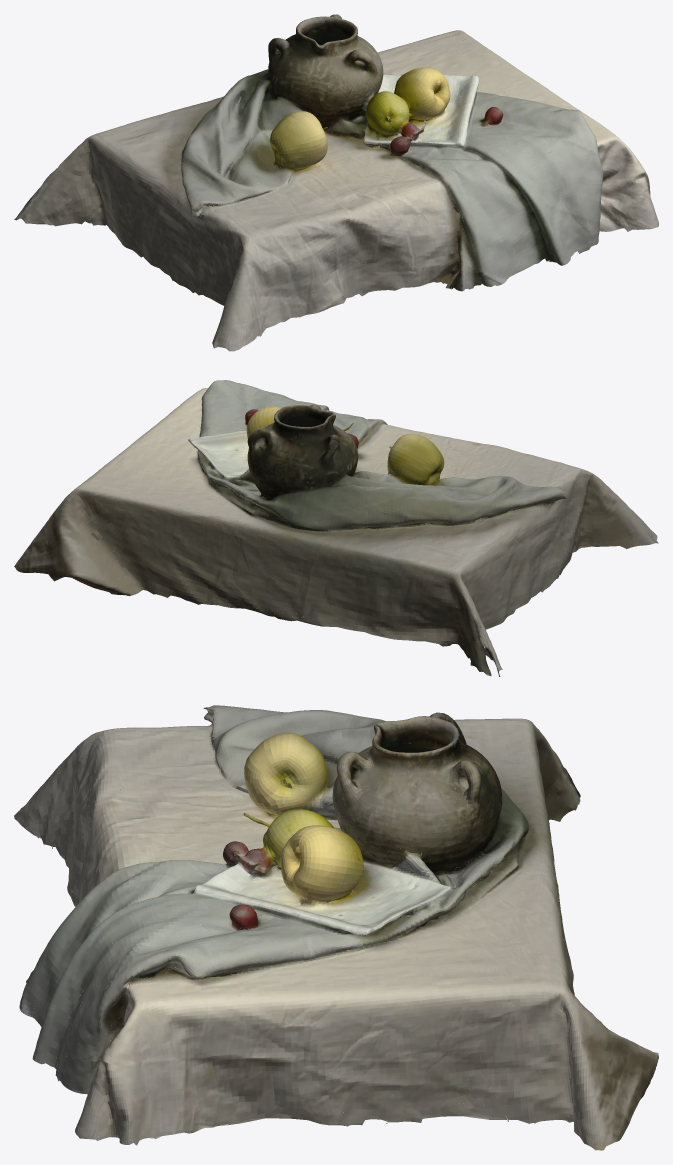
The model's file is 静物系列_苹果陶罐02_opt.glb.
The picture shows the model from 3 angles, top to bottom: view 1: azimuth 30°, elevation 25°; view 2: azimuth 150°, elevation 25°; view 3: azimuth 270°, elevation 25°; orthographic projection. The views are drawn at different scales.
Visible parts, largest first — view 1: surfaceShader1SG_2, surfaceShader1SG_4, surfaceShader1SG, surfaceShader1SG_6; view 2: surfaceShader1SG_4, surfaceShader1SG, surfaceShader1SG_2, surfaceShader1SG_6; view 3: surfaceShader1SG, surfaceShader1SG_2, surfaceShader1SG_4, surfaceShader1SG_6.
Part boxes in pixels (x1,y1,x2,y2): surfaceShader1SG_2: (256, 14, 522, 320); surfaceShader1SG_4: (14, 38, 388, 348); surfaceShader1SG: (24, 23, 658, 351); surfaceShader1SG_6: (16, 31, 658, 351); surfaceShader1SG_4: (102, 434, 657, 676); surfaceShader1SG: (14, 380, 656, 674); surfaceShader1SG_2: (212, 404, 546, 506); surfaceShader1SG_6: (14, 382, 658, 676); surfaceShader1SG: (14, 707, 658, 1150); surfaceShader1SG_2: (22, 716, 521, 1009); surfaceShader1SG_4: (21, 705, 579, 995); surfaceShader1SG_6: (16, 716, 618, 1150).
Bounding box in the file's own units: 1.83 × 0.6 × 1.4.
Materials: 1 (1 with a texture image).
